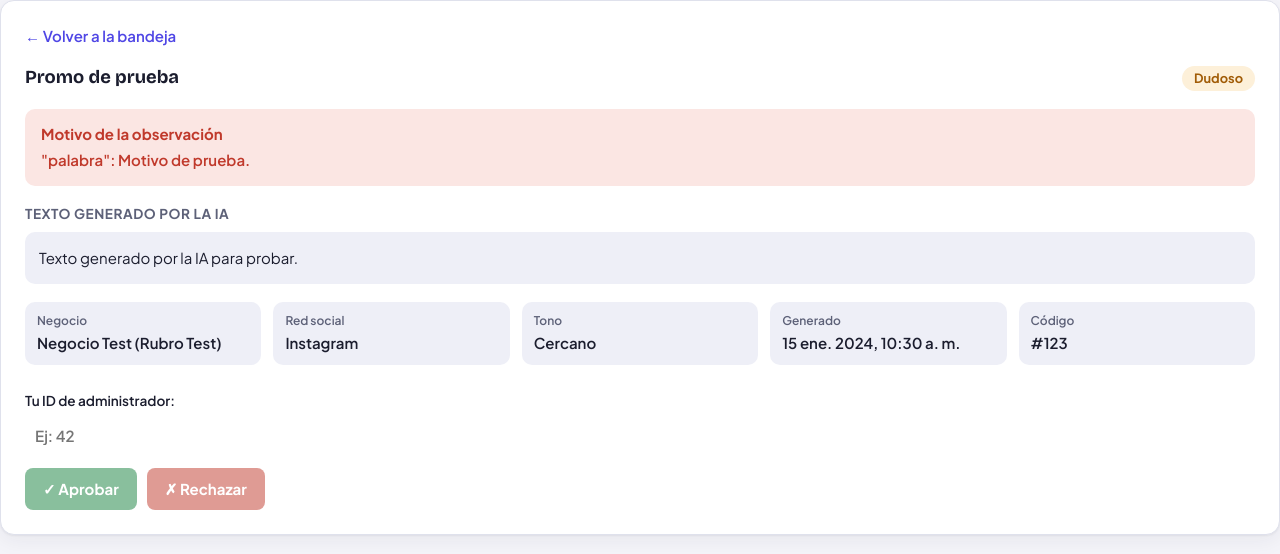
Test: DetalleContenidoView (HU-15) › deshabilita botones mientras no hay moderador_id
Expected: the text "Tu ID de administrador:" is shown, 25,392 -> 225,456
Expected: the button "✓ Aprobar" is disabled, 25,468 -> 137,510
Type "1" into the number field labelled "Tu ID de administrador:" at (125, 436), box 25,417 -> 225,456
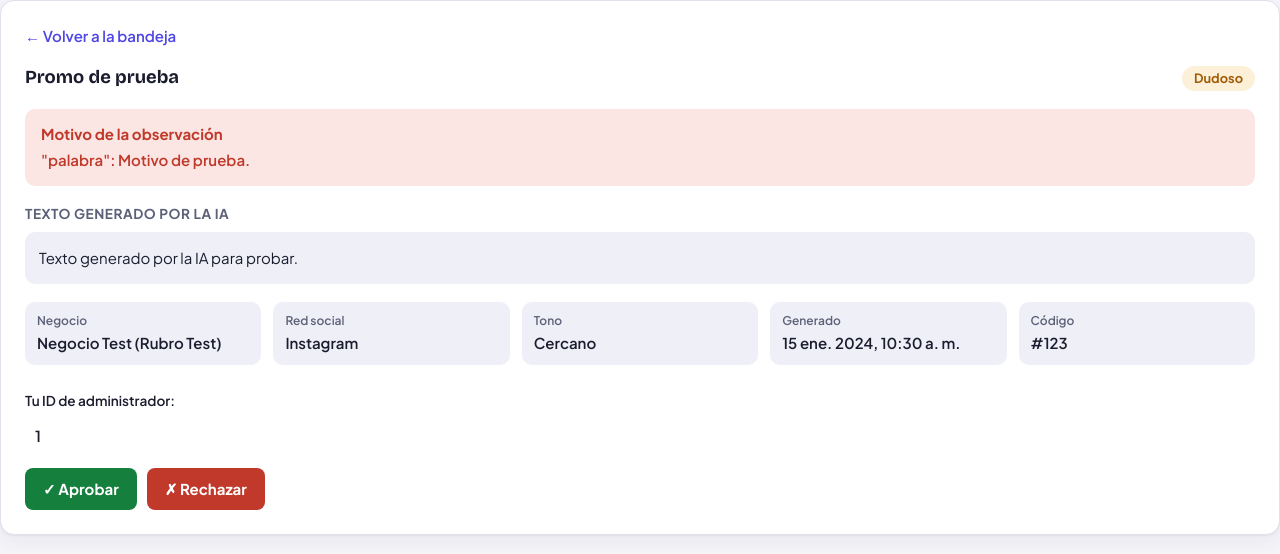
Result: the button "✓ Aprobar" is enabled at 25,468 -> 137,510
Result: the button "✗ Rechazar" is enabled at 147,468 -> 265,510
